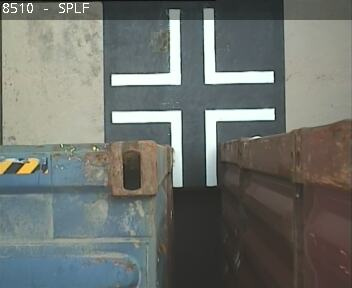groundmarker_1: (109, 107, 275, 187), (110, 9, 274, 86)
